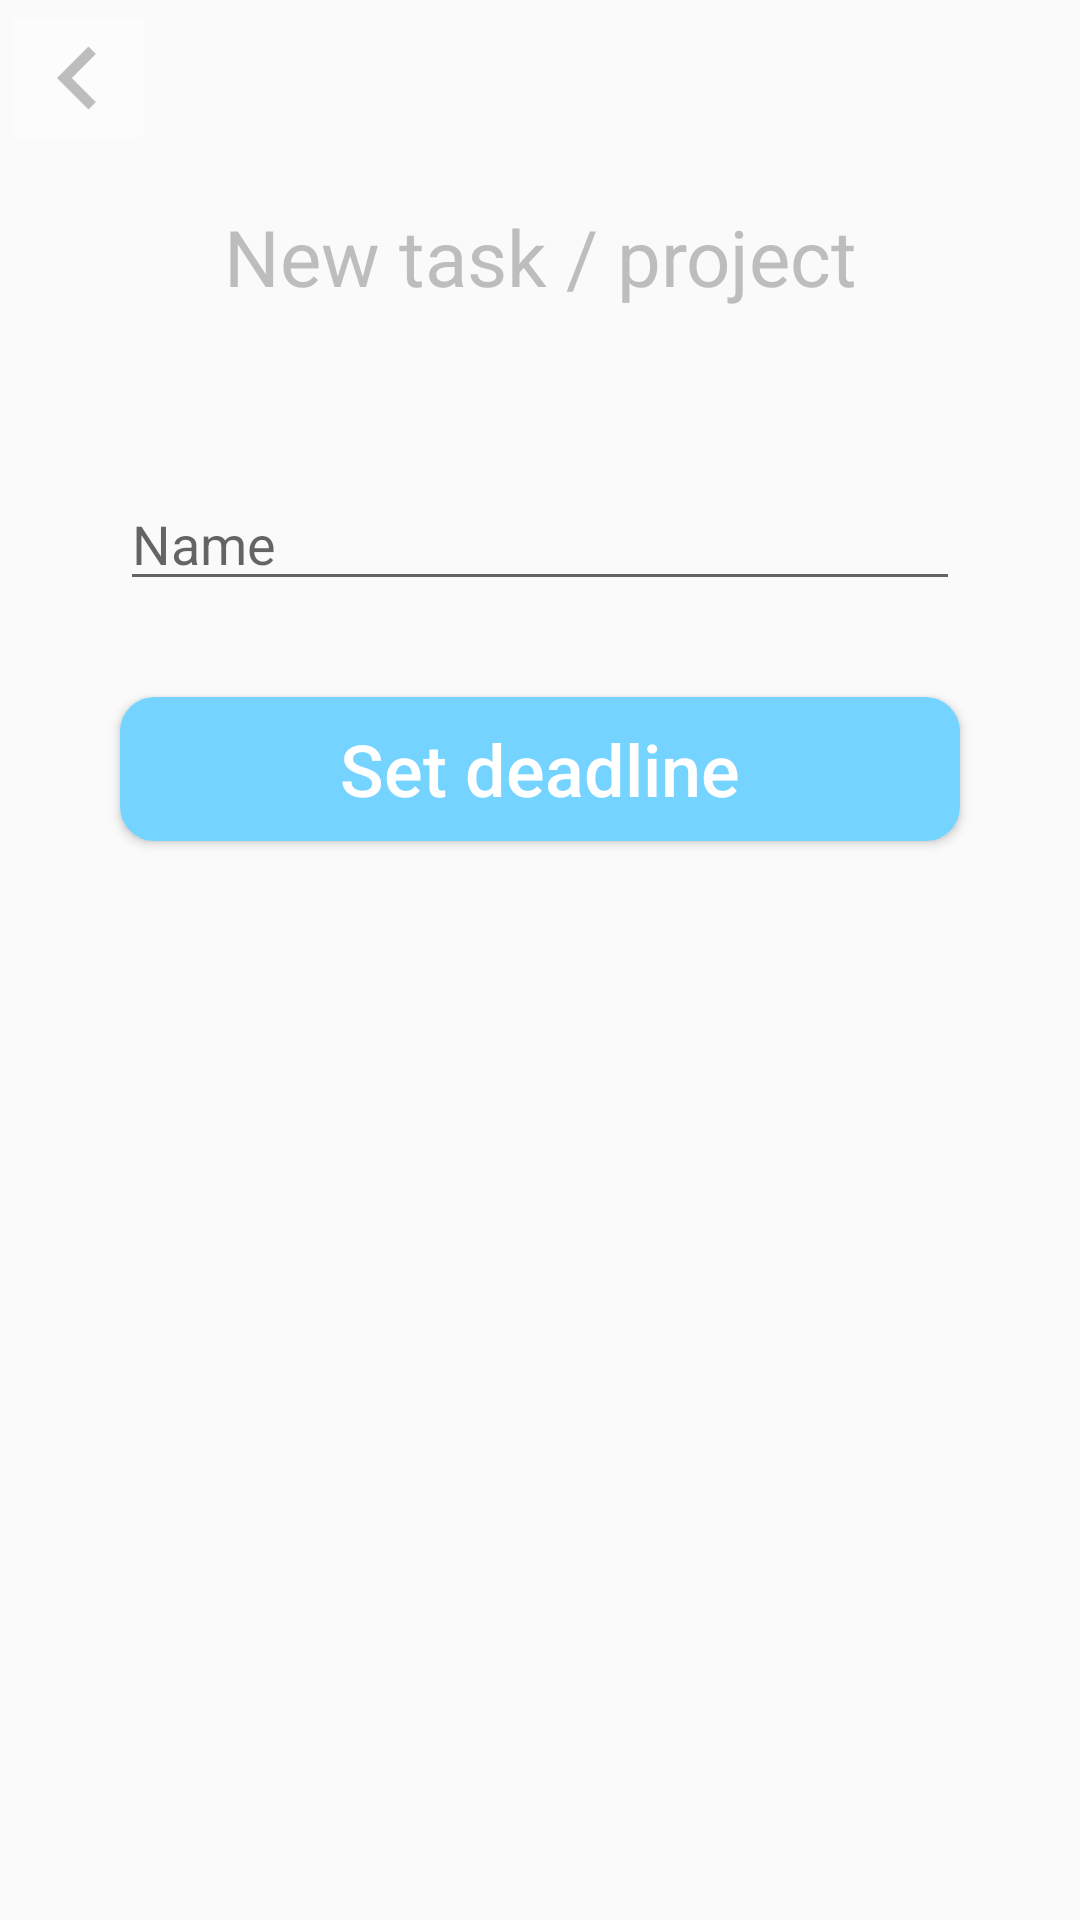

Icons on this 1080 × 1920 Android screen, each with the point to tap as point (x, y):
back: point (76, 78)
